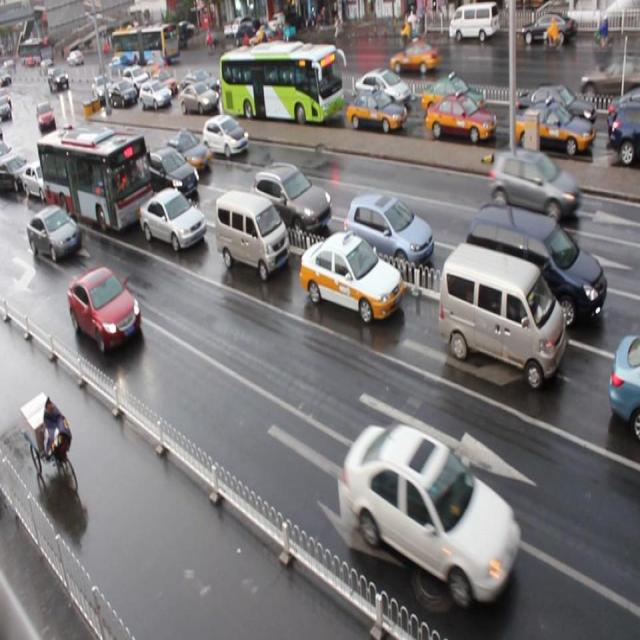car: (343, 418, 521, 608), (298, 228, 402, 322), (342, 194, 433, 278), (67, 265, 144, 357), (490, 147, 578, 226), (251, 162, 331, 234), (513, 99, 592, 157), (137, 186, 205, 251), (425, 92, 495, 142), (607, 331, 640, 437), (512, 84, 588, 129), (144, 146, 199, 204), (27, 204, 81, 263), (423, 74, 488, 120), (345, 86, 405, 133), (354, 69, 409, 111), (203, 114, 249, 160), (165, 129, 212, 174), (608, 98, 640, 160), (21, 158, 59, 202), (606, 92, 640, 138), (178, 82, 219, 116), (253, 68, 290, 103), (1, 152, 31, 193), (139, 78, 170, 113), (188, 69, 224, 98), (65, 124, 92, 159), (146, 69, 175, 96), (108, 80, 135, 108), (122, 65, 149, 93)
truck: (437, 240, 564, 388), (465, 200, 605, 330), (212, 187, 288, 279)
van: (36, 126, 154, 234), (216, 43, 340, 123)
